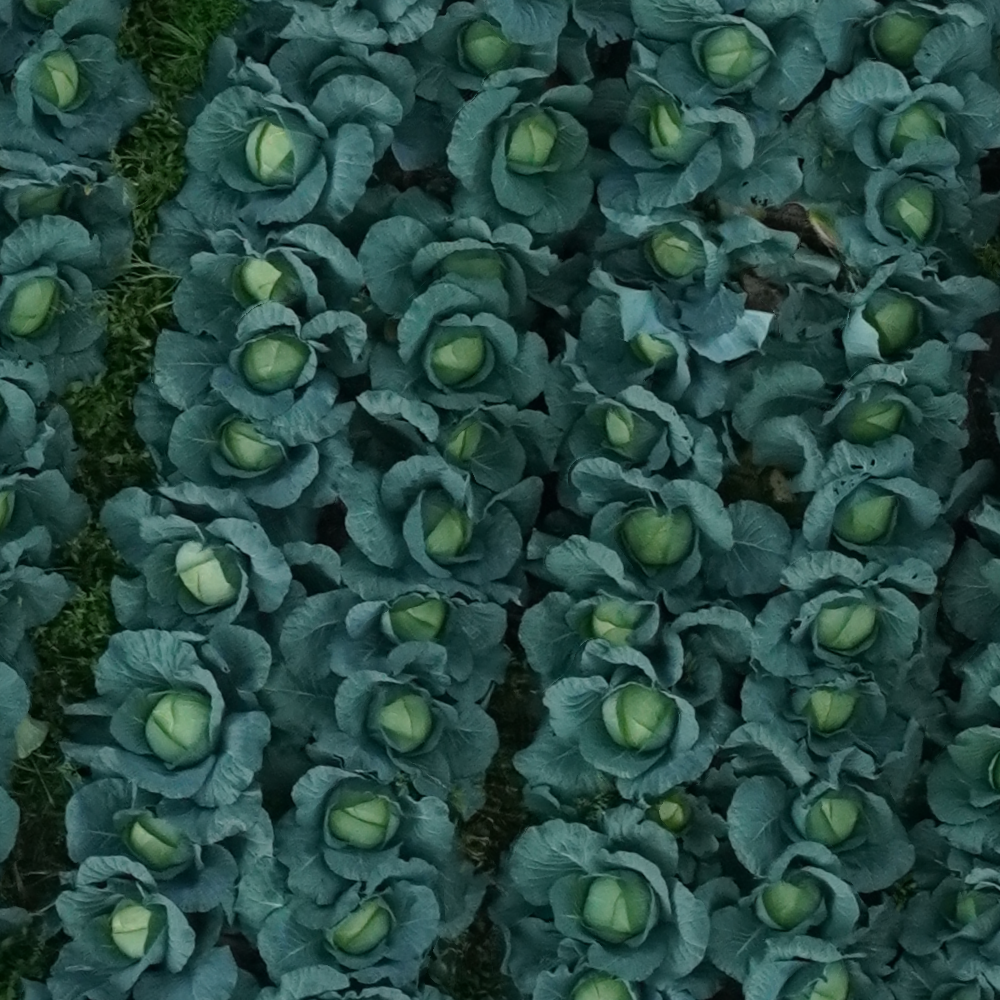Cabbage: (179, 34, 403, 248), (495, 787, 721, 998), (265, 641, 500, 820), (336, 417, 544, 607), (534, 460, 793, 611), (789, 23, 999, 209), (60, 626, 274, 808), (594, 43, 803, 228), (101, 484, 340, 644), (133, 376, 357, 545), (728, 340, 973, 494), (591, 211, 840, 359), (520, 534, 755, 688), (701, 726, 916, 894), (392, 78, 623, 234), (513, 640, 736, 801), (234, 853, 491, 985), (63, 764, 275, 921), (272, 766, 477, 925), (746, 255, 999, 380), (781, 437, 996, 584), (151, 200, 364, 346), (544, 333, 737, 491), (800, 135, 999, 286), (360, 214, 589, 344), (46, 855, 238, 1000), (150, 304, 376, 427), (750, 549, 949, 687), (0, 0, 158, 173), (280, 586, 512, 702), (741, 670, 944, 799), (696, 841, 869, 981), (371, 276, 550, 410), (574, 268, 729, 418), (0, 215, 118, 397), (355, 389, 561, 493), (629, 0, 827, 108), (401, 3, 594, 105), (742, 894, 907, 1000), (898, 820, 1000, 989), (0, 146, 139, 259), (501, 919, 667, 1000), (816, 0, 999, 73), (0, 355, 91, 478), (271, 38, 417, 113), (925, 724, 1000, 857), (0, 469, 89, 549), (638, 788, 726, 862)
